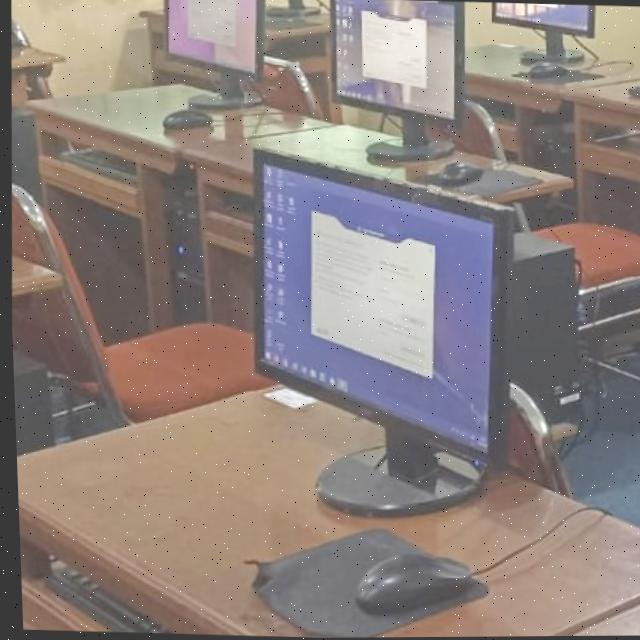onscreen: (253, 157, 500, 465), (331, 0, 462, 121), (168, 0, 255, 72), (491, 4, 594, 64)
